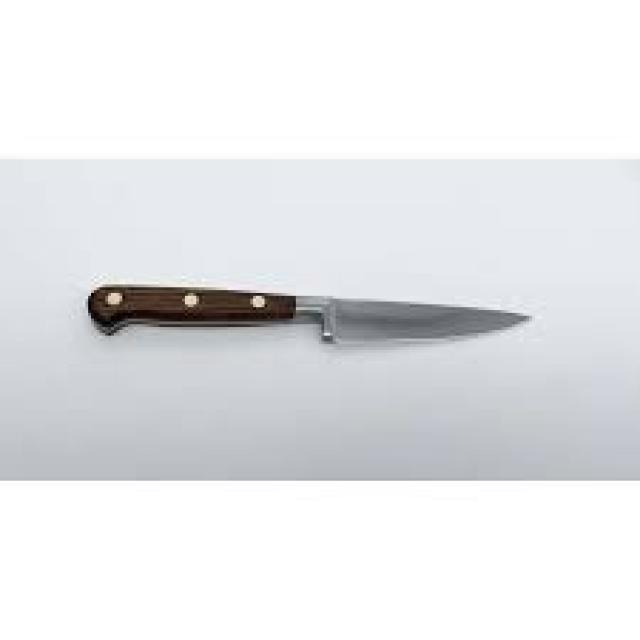Knife: (85, 282, 532, 341)
